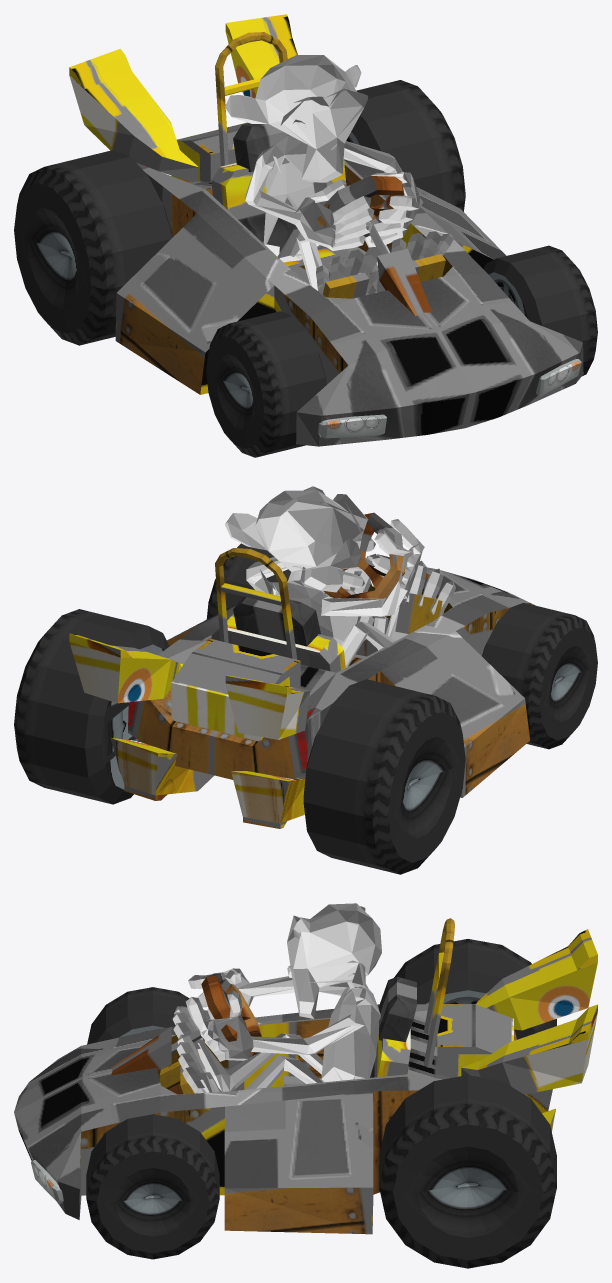
Rendered from kart.glb.
The picture shows the model from 3 angles, top to bottom: view 1: azimuth 30°, elevation 25°; view 2: azimuth 150°, elevation 25°; view 3: azimuth 270°, elevation 25°; orthographic projection. The views are drawn at different scales.
Parts seen in each view (by area): view 1: body (×3), wheel-rear-left, wheel-front-left, wheel-rear-right, wheel-front-right; view 2: body (×2), wheel-rear-left, wheel-rear-right, wheel-front-left, wheel-front-right; view 3: body (×3), wheel-rear-right, wheel-front-right, wheel-rear-left, wheel-front-left.
Part boxes in pixels (x1,y1,x2,y2): body (×3): (69,14,583,446); wheel-rear-left: (14,150,172,345); wheel-front-left: (206,311,326,457); wheel-rear-right: (346,80,465,211); wheel-front-right: (483,245,597,376); body (×2): (69,486,535,828); wheel-rear-left: (303,679,465,874); wheel-rear-right: (14,609,169,804); wheel-front-left: (482,602,597,749); wheel-front-right: (206,543,290,619); body (×3): (14,903,597,1234); wheel-rear-right: (379,1075,556,1268); wheel-front-right: (86,1114,219,1259); wheel-rear-left: (394,939,556,1039); wheel-front-left: (87,987,189,1044).
Bounding box in the file's own units: 1.01 × 0.7265 × 1.41.
3 materials, 3 textured.
